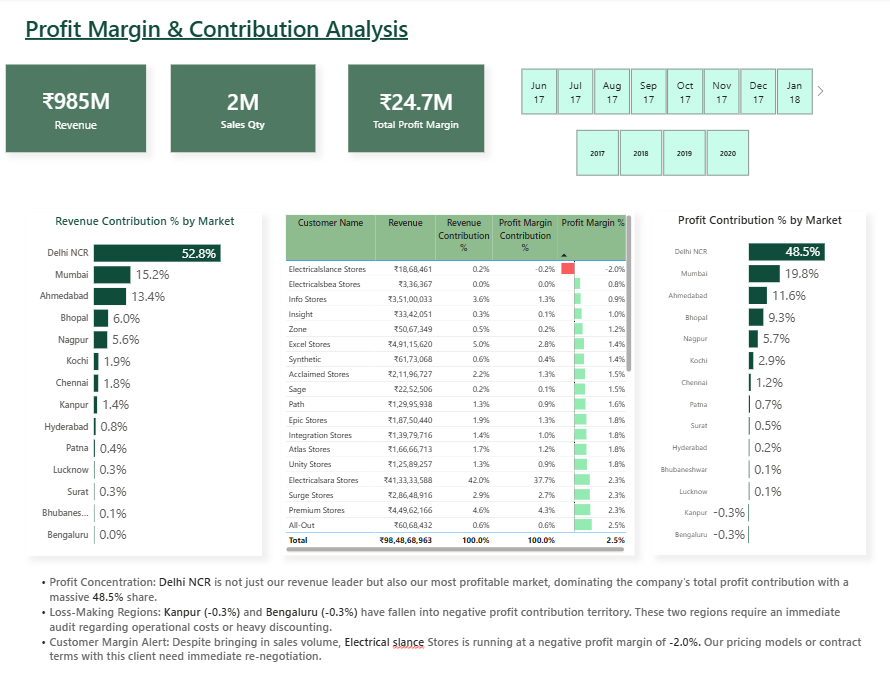

What the dashboard file says about the page in this screenshot:
{"tool":"powerbi","page":{"name":"Profit Analysis","canvas":[1500,1200],"ordinal":1},"visuals":[{"type":"card","fields":{"Values":["BaseMeasures (2).Revenue"]},"box":[14.5,112.7,232.7,145.5],"z":0},{"type":"card","fields":{"Values":["BaseMeasures (2).Sales Qty"]},"box":[289.1,112.7,240,145.5],"z":1000},{"type":"barChart","title":"Profit Contribution % by Market","fields":{"Y":["BaseMeasures (2).Profit Margin Contribution %"],"Category":["sales markets.markets_name"]},"box":[1089.2,356.9,353.8,569.2],"z":2000},{"type":"slicer","fields":{"Values":["sales date.year"]},"box":[934.5,212.7,336.4,89.1],"z":3000},{"type":"slicer","fields":{"Values":["sales date.cy_date"]},"box":[843.6,112.7,532.7,89.1],"z":4000},{"type":"tableEx","title":"Top 5 Customers","fields":{"Values":["sales customers.custmer_name","BaseMeasures (2).Revenue","BaseMeasures (2).Revenue Contribution %","BaseMeasures (2).Profit Margin Contribution %","BaseMeasures (2).Profit Margin %"]},"box":[472.3,356.9,584.6,569.2],"z":5000},{"type":"card","fields":{"Values":["BaseMeasures (2).Total Profit Margin"]},"box":[581.8,112.7,225.5,145.5],"z":6000},{"type":"barChart","title":"Revenue Contribution % by Market","fields":{"Y":["BaseMeasures (2).Revenue Contribution %"],"Category":["sales markets.markets_name"]},"box":[49.2,358.5,390.8,567.7],"z":7000},{"type":"textbox","box":[41.4,20.7,672.4,63.8],"z":8000},{"type":"textbox","box":[53.8,950.8,1393.8,201.5],"z":9000}]}

Visuals, with their boxes in screenshot pixels (x1, y1, x2, y2), scaled from the page's 1500x1200 canvas onto the 890x697 screenshot:
card - BaseMeasures (2).Revenue: 9/65/147/150
card - BaseMeasures (2).Sales Qty: 172/65/314/150
"Profit Contribution % by Market" barChart: 646/207/856/538
slicer - sales date.year: 554/124/754/175
slicer - sales date.cy_date: 501/65/817/117
"Top 5 Customers" tableEx: 280/207/627/538
card - BaseMeasures (2).Total Profit Margin: 345/65/479/150
"Revenue Contribution % by Market" barChart: 29/208/261/538
textbox: 25/12/424/49
textbox: 32/552/859/669
